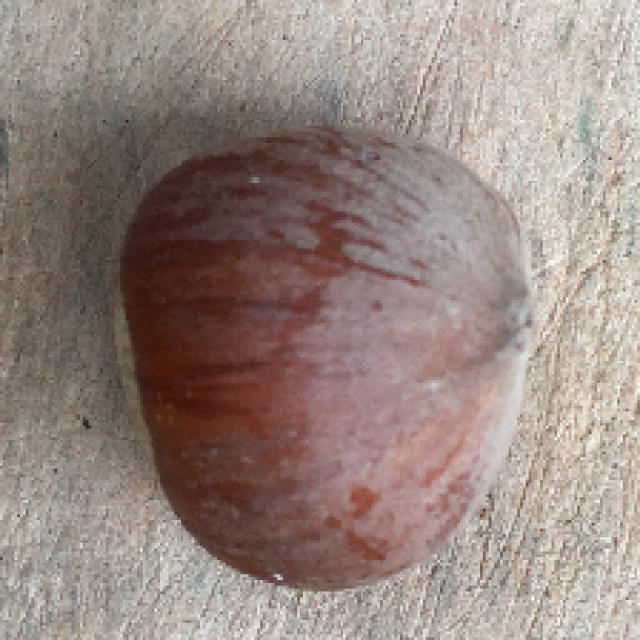qualityHazelnut: (114, 128, 540, 591)
